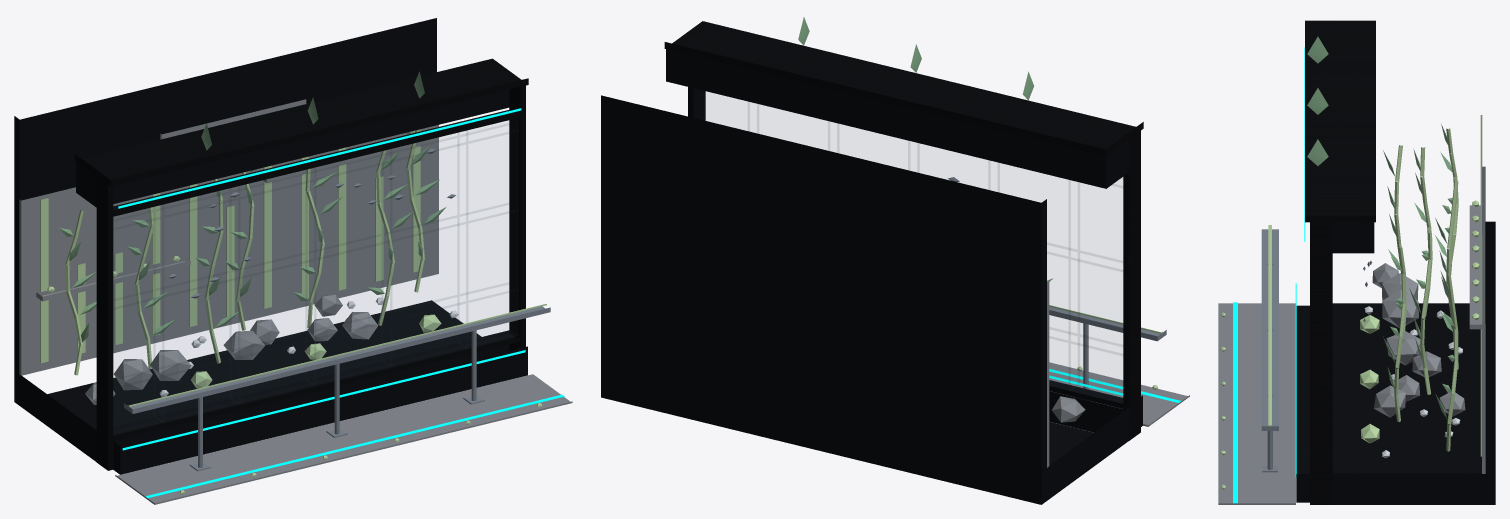
Rendered from tt_corridor_tank_bay.glb.
3 renders of one model, left to right at view 1: azimuth 30°, elevation 25°; view 2: azimuth 150°, elevation 25°; view 3: azimuth 270°, elevation 25°, orthographic. The views are drawn at different scales.
Visible parts, largest first — view 1: Tank_Shell, Reef_Backdrop, Acrylic_Frame, Terrazzo_Strip, Glass_Acrylic, Sill_Nosing, Backdrop_Kelp_Relief, Kelp_Stipes, Reef_Rocks, Lean_Rail, Kelp_Blades, Backdrop_Ledges (+5 smaller); view 2: Tank_Shell, Acrylic_Frame, Glass_Acrylic, Terrazzo_Strip, Sill_Nosing, Lean_Rail; view 3: Tank_Shell, Acrylic_Frame, Terrazzo_Strip, Kelp_Stipes, Reef_Rocks, Lean_Rail, Sill_Nosing, Kelp_Blades, Backdrop_Ledges, Reef_Backdrop, Cyan_Inlay, Header_Kelp_Crests (+6 smaller).
Part boxes in pixels (x1,y1,x2,y2): Tank_Shell: (14,18,514,461); Reef_Backdrop: (19,99,438,375); Acrylic_Frame: (74,58,528,470); Terrazzo_Strip: (115,374,572,504); Glass_Acrylic: (113,122,518,422); Sill_Nosing: (113,346,527,474); Backdrop_Kelp_Relief: (40,129,420,363); Kelp_Stipes: (65,129,424,375); Reef_Rocks: (85,294,378,404); Lean_Rail: (124,306,550,471); Kelp_Blades: (59,131,445,342); Backdrop_Ledges: (36,139,429,301); Tank_Shell: (601,49,1128,504); Acrylic_Frame: (664,21,1143,440); Glass_Acrylic: (747,102,1122,390); Terrazzo_Strip: (1049,362,1189,426); Sill_Nosing: (1049,391,1142,432); Lean_Rail: (1049,306,1166,400); Tank_Shell: (1332,221,1495,504); Acrylic_Frame: (1305,20,1375,504); Terrazzo_Strip: (1218,303,1295,504); Kelp_Stipes: (1394,128,1458,451); Reef_Rocks: (1372,263,1465,417); Lean_Rail: (1261,229,1278,472); Sill_Nosing: (1296,305,1309,502); Kelp_Blades: (1383,123,1454,419); Backdrop_Ledges: (1469,205,1481,329); Reef_Backdrop: (1482,166,1485,473); Cyan_Inlay: (1233,302,1237,503); Header_Kelp_Crests: (1307,36,1328,165).
Size of what is drawn, in the model's own units: 5.5 by 4.03 by 3.2.
9 materials, 5 textured.
